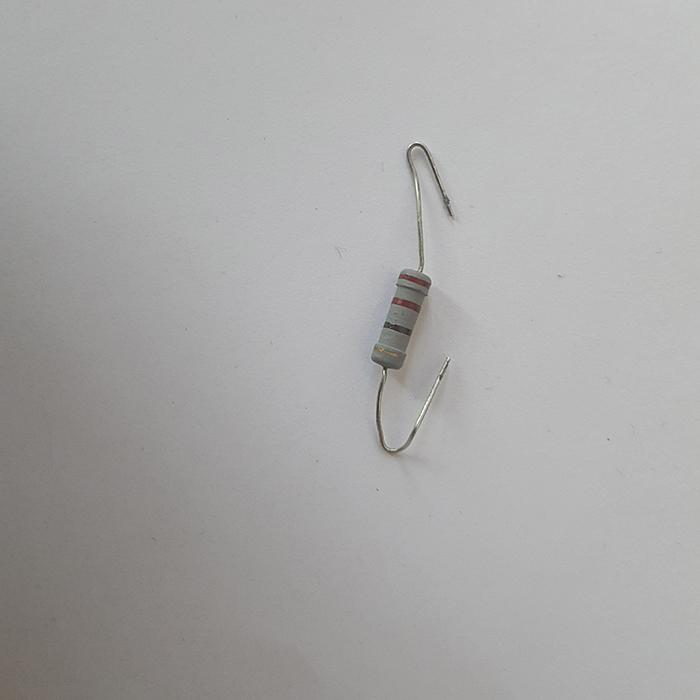resistor: (372, 267, 433, 370)
